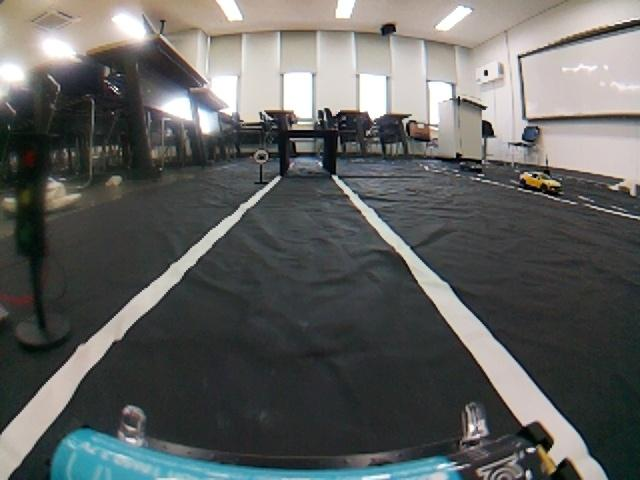red_light: (8, 133, 55, 263)
sign_tunnel: (253, 144, 271, 167)
straight: (69, 236, 640, 475)
